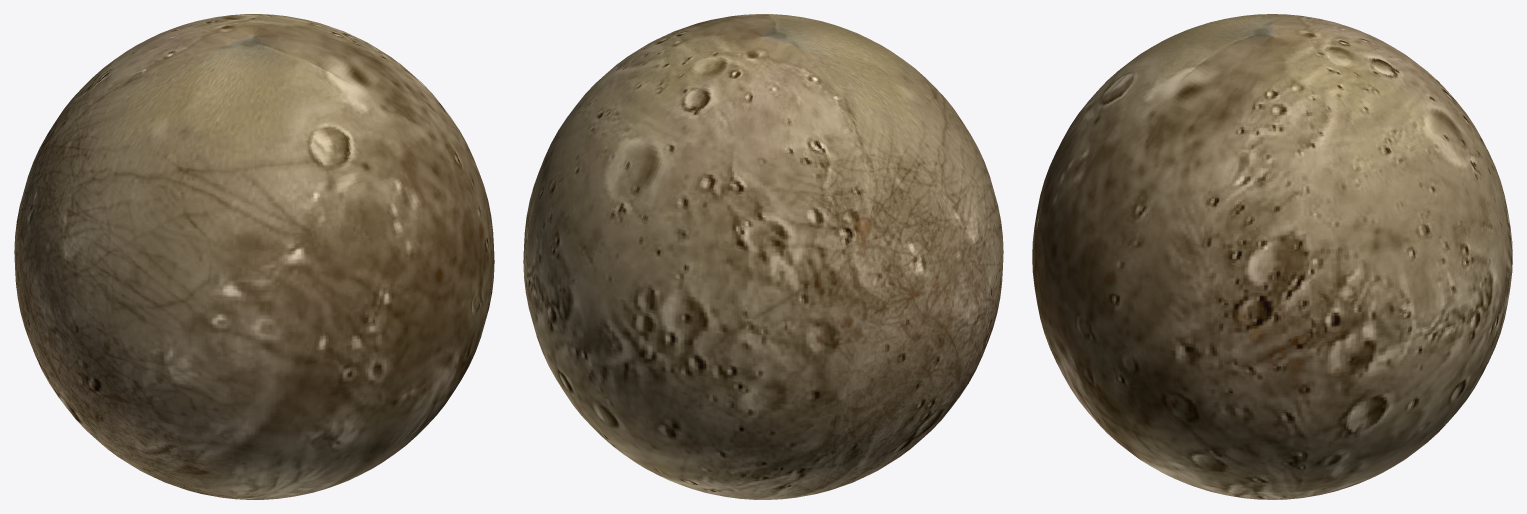
Rendered from deimos.obj.
The picture shows the model from 3 angles, left to right: view 1: azimuth 30°, elevation 25°; view 2: azimuth 150°, elevation 25°; view 3: azimuth 270°, elevation 25°; orthographic projection.
Parts seen in each view (by area): view 1: deimos; view 2: deimos; view 3: deimos.
Part boxes in pixels (<box>): deimos: <box>14,14,494,499</box>; deimos: <box>523,14,1003,499</box>; deimos: <box>1032,14,1512,499</box>.
Bounding box in the file's own units: 4.92 × 4.97 × 4.92.
Materials: 1 (1 with a texture image).
